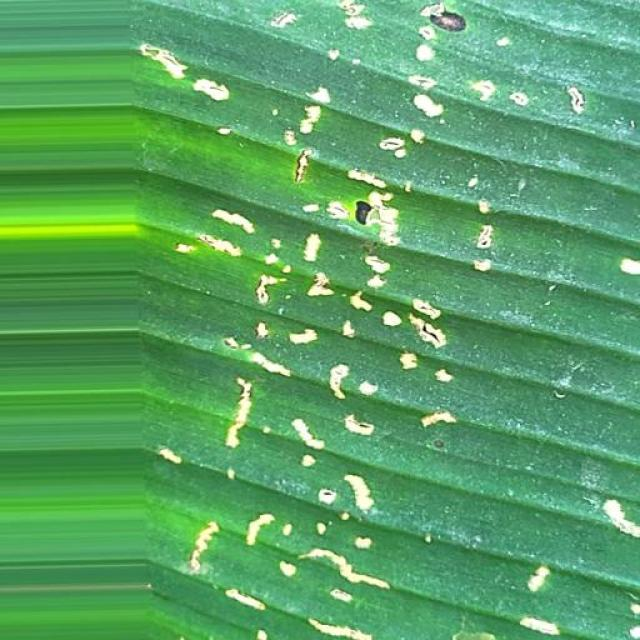Black_rot: (119, 1, 640, 640)
